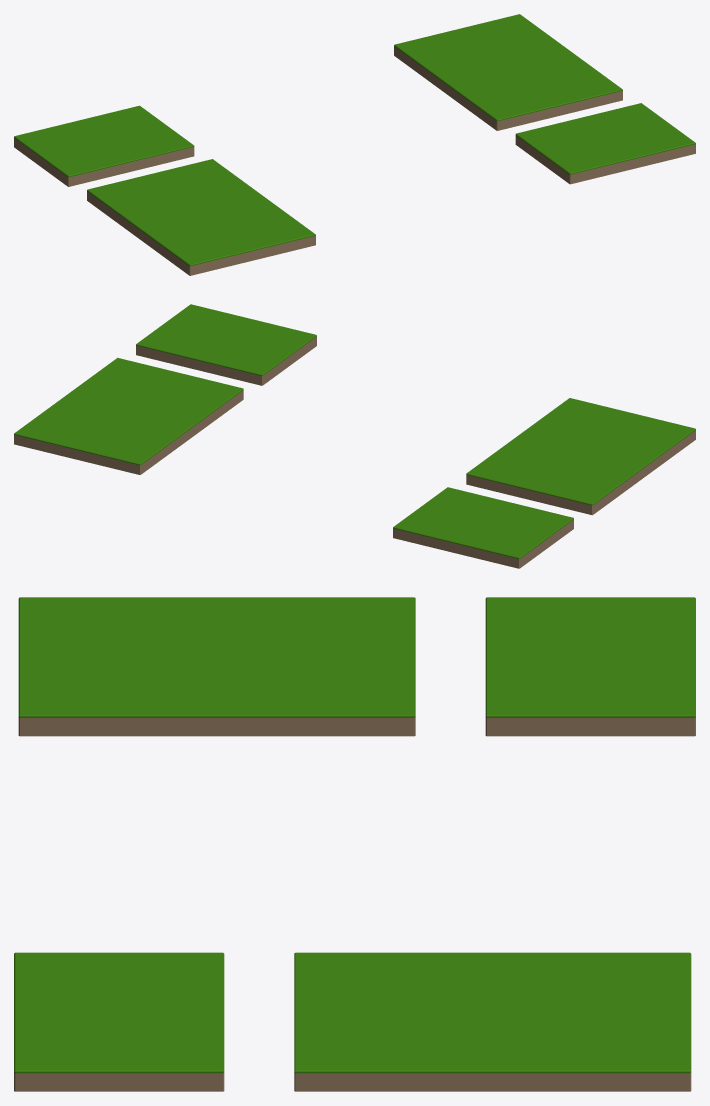
Rendered from Muntanyes Laterals.fbx.
The picture shows the model from 3 angles, top to bottom: view 1: azimuth 30°, elevation 25°; view 2: azimuth 150°, elevation 25°; view 3: azimuth 270°, elevation 25°; orthographic projection. The views are drawn at different scales.
Visible parts, largest first — view 1: Cube.005; view 2: Cube.005; view 3: Cube.005.
Part boxes in pixels (x1=…): Cube.005: x1=14, y1=14, x2=695, y2=275; Cube.005: x1=14, y1=304, x2=695, y2=568; Cube.005: x1=14, y1=597, x2=695, y2=1091.
Bounding box in the file's own units: 480 × 10 × 292.
